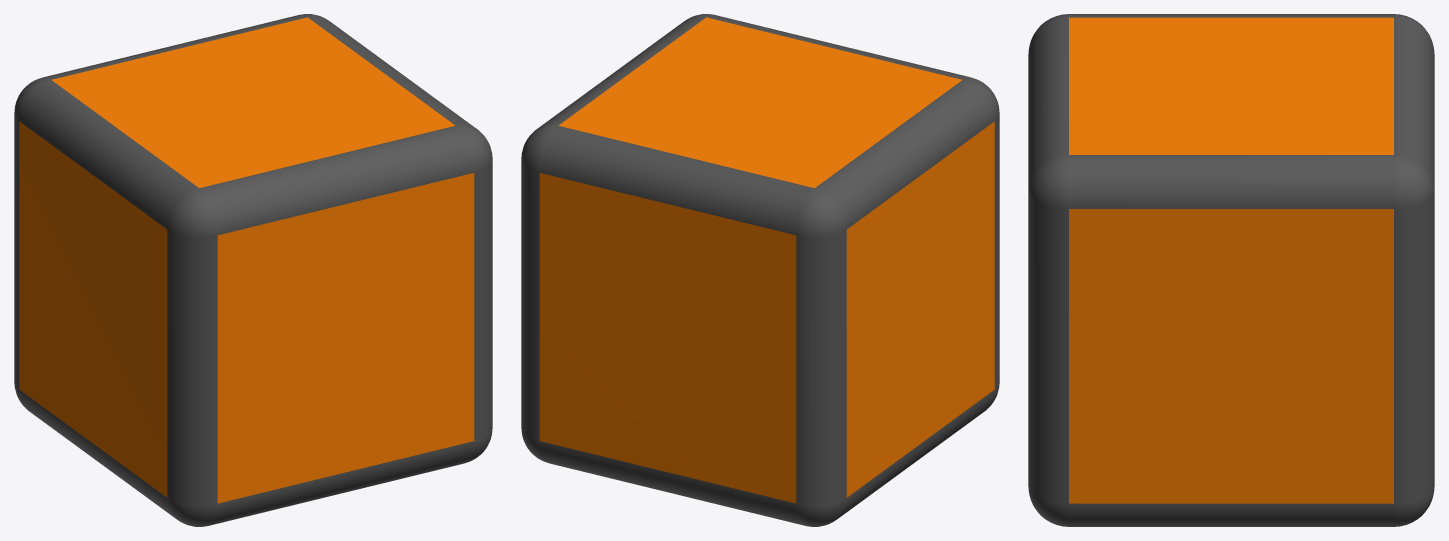
Rendered from stone5.glb.
The picture shows the model from 3 angles, left to right: view 1: azimuth 30°, elevation 25°; view 2: azimuth 150°, elevation 25°; view 3: azimuth 270°, elevation 25°; orthographic projection. The views are drawn at different scales.
Visible parts, largest first — view 1: Cube; view 2: Cube; view 3: Cube.
Boxes of the visible parts, box(x1,y1,x2,y2) form: Cube: box(14, 14, 492, 526); Cube: box(521, 14, 999, 526); Cube: box(1028, 14, 1434, 526).
Bounding box in the file's own units: 1 × 1 × 1.
